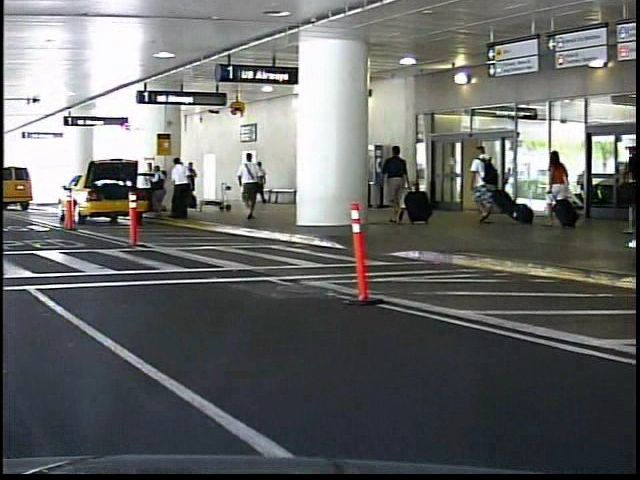person: (466, 138, 503, 224), (612, 137, 640, 249), (538, 143, 573, 229), (377, 142, 409, 227), (231, 148, 263, 221), (239, 162, 260, 209)
